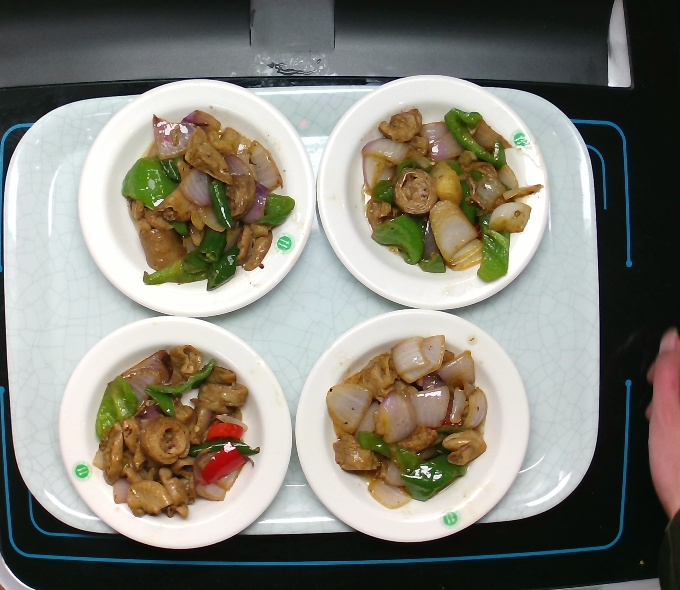wcq-QingJiaoChaoDaChang: (116, 103, 302, 301), (319, 325, 505, 523), (356, 100, 542, 298), (84, 330, 270, 528)
